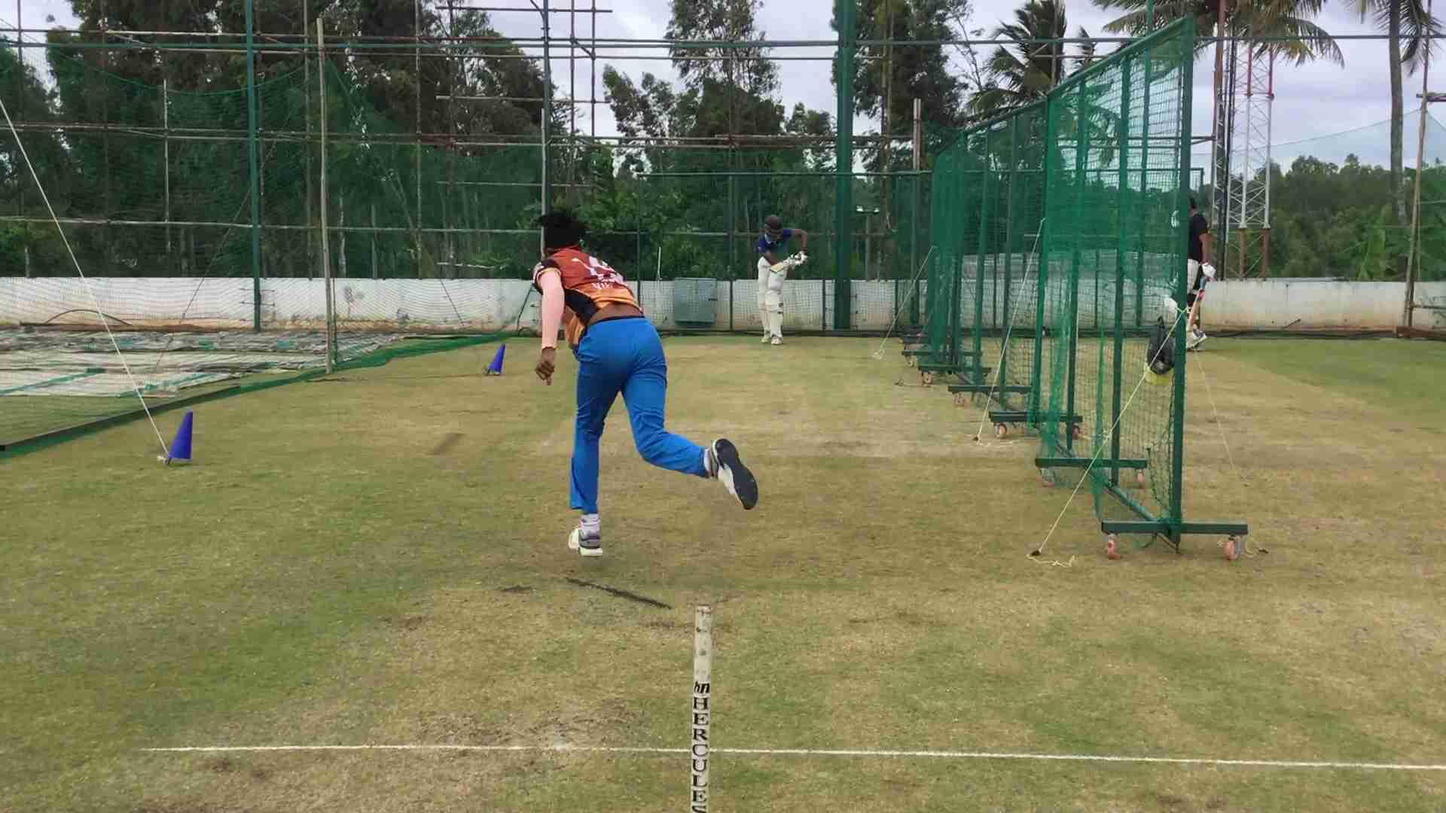batsman: (750, 206, 815, 348)
